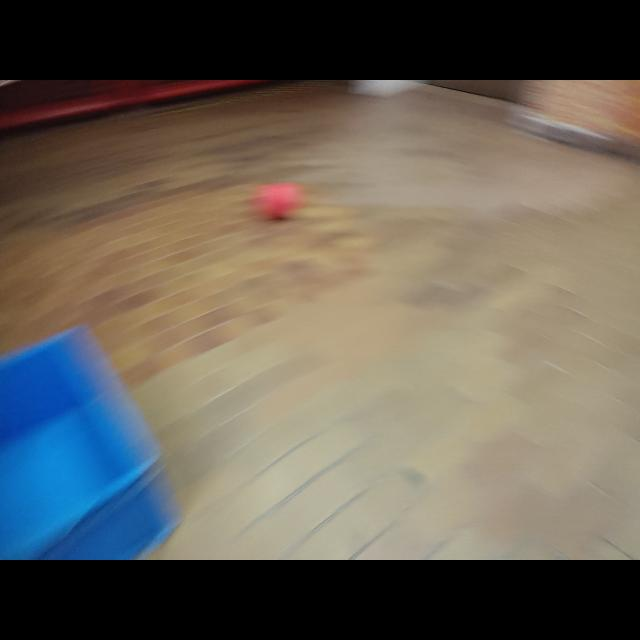R: (252, 174, 308, 226)
